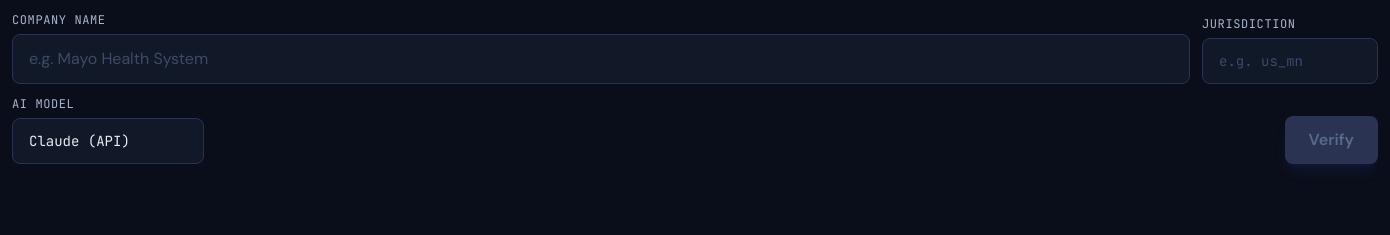
Test case: SearchBar › shows error message on mutation failure
This screenshot has width=1390, height=235.
Type "Test Clinic" into the field with placeholder "e.g. Mayo Health System".
click(601, 59); type("Test Clinic")  # box [12, 34, 1190, 84]
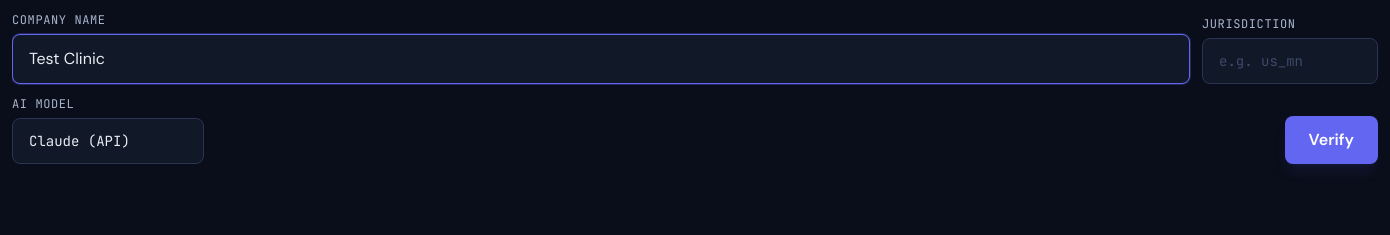
Click the button "Verify".
click(1331, 140)  # box [1285, 116, 1378, 164]
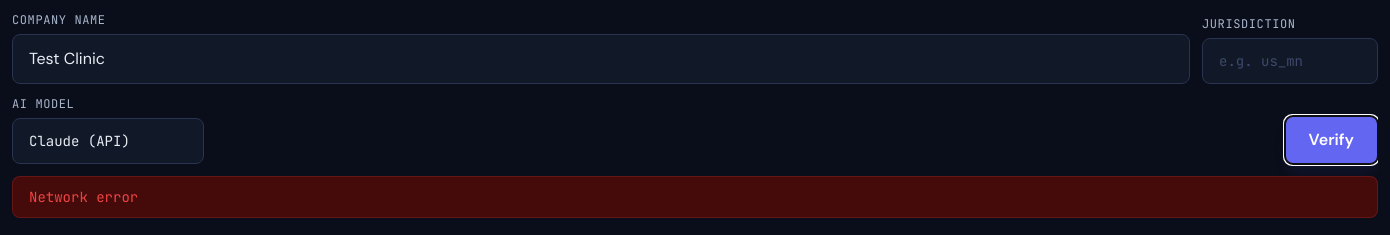
Check: the text "Network error" is shown, box [12, 176, 1378, 218]
